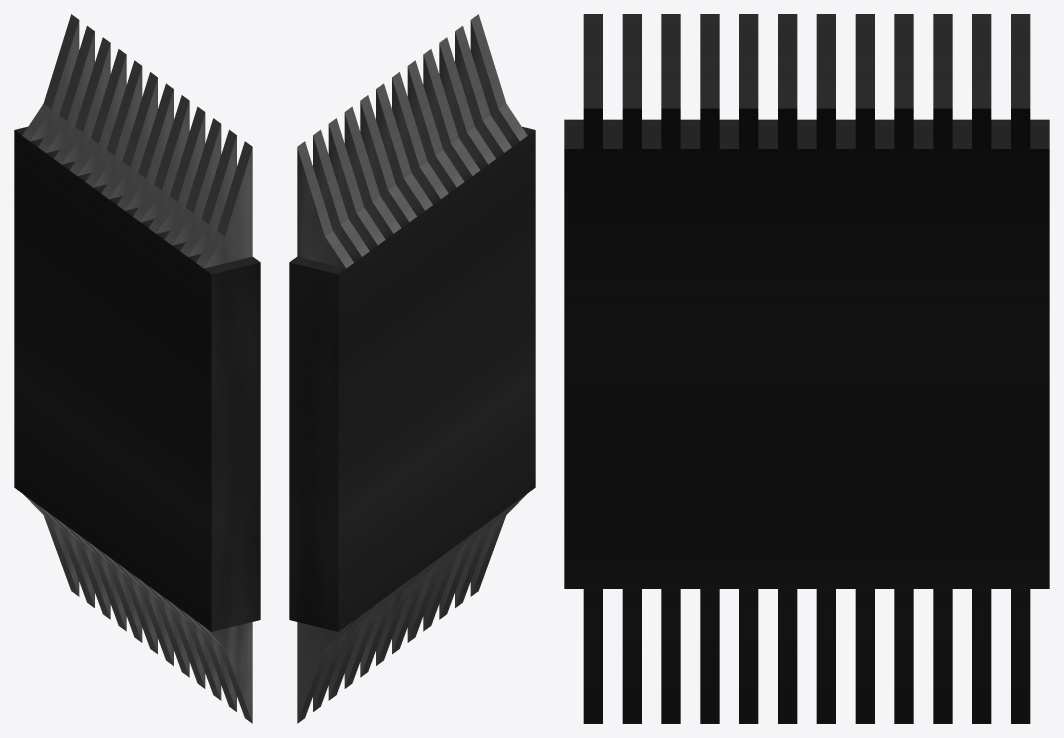
3 renders of one model, left to right at view 1: azimuth 30°, elevation 25°; view 2: azimuth 150°, elevation 25°; view 3: azimuth 270°, elevation 25°, orthographic. The views are drawn at different scales.
Visible parts, largest first — view 1: Motherboard component 3.002; view 2: Motherboard component 3.002; view 3: Motherboard component 3.002.
Part boxes in pixels (x1,y1,x2,y2): Motherboard component 3.002: (14,14,260,723); Motherboard component 3.002: (289,14,535,723); Motherboard component 3.002: (564,14,1049,723).
Bounding box in the file's own units: 5.49 × 61.58 × 38.15.
